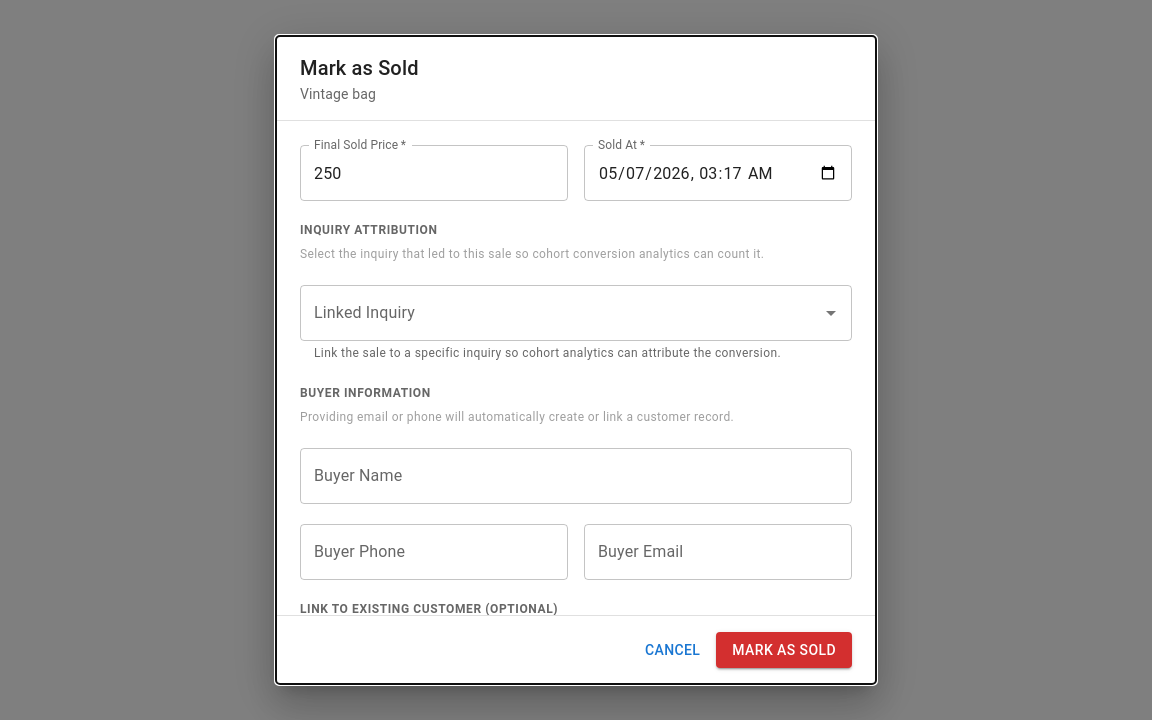
ProductSaleDialog › prefills listed price and blocks submission when the sold price is negative
The width and height of the screenshot is (1152, 720).
Step 1. Replace the text in the number field labelled "Final Sold Price *" with "-1" → {"x": 434, "y": 173}, box [300,145,568,201]
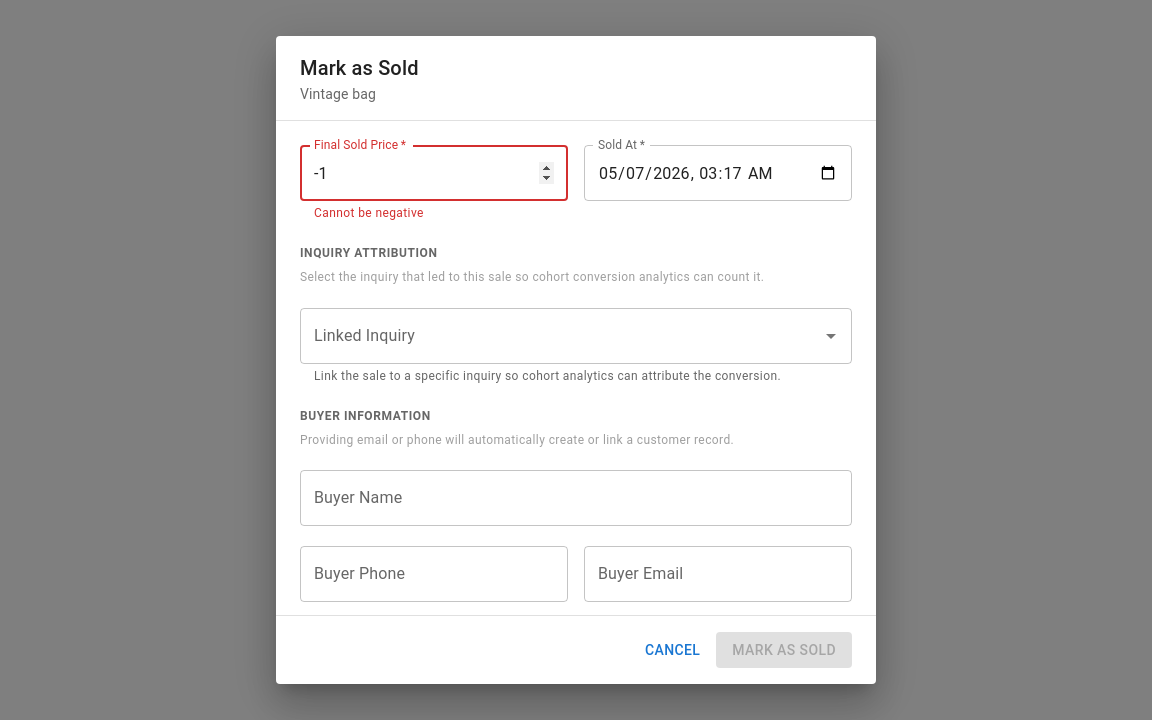
Expected: the button "Mark as Sold" is disabled, [716,632,852,668]
Expected: the text "Cannot be negative" is shown, [314,206,424,220]
